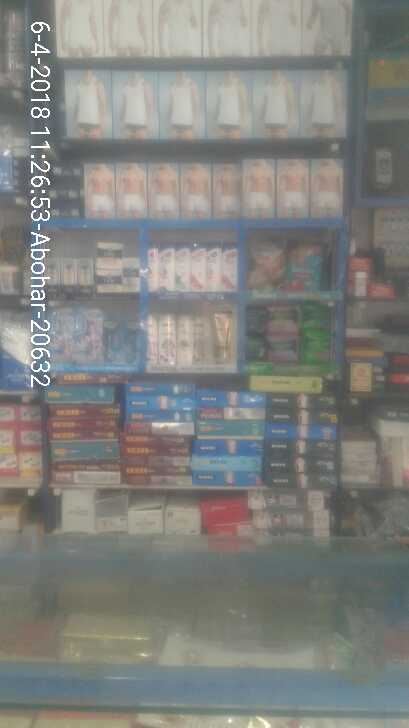venus: (74, 304, 102, 362), (48, 304, 71, 362), (120, 317, 140, 363), (105, 311, 120, 363)
